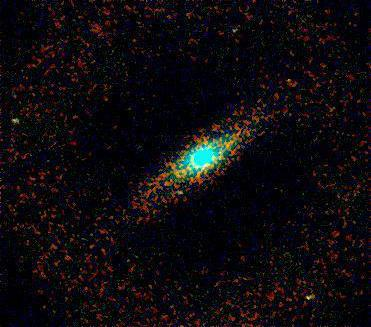star: (273, 62, 303, 92)
